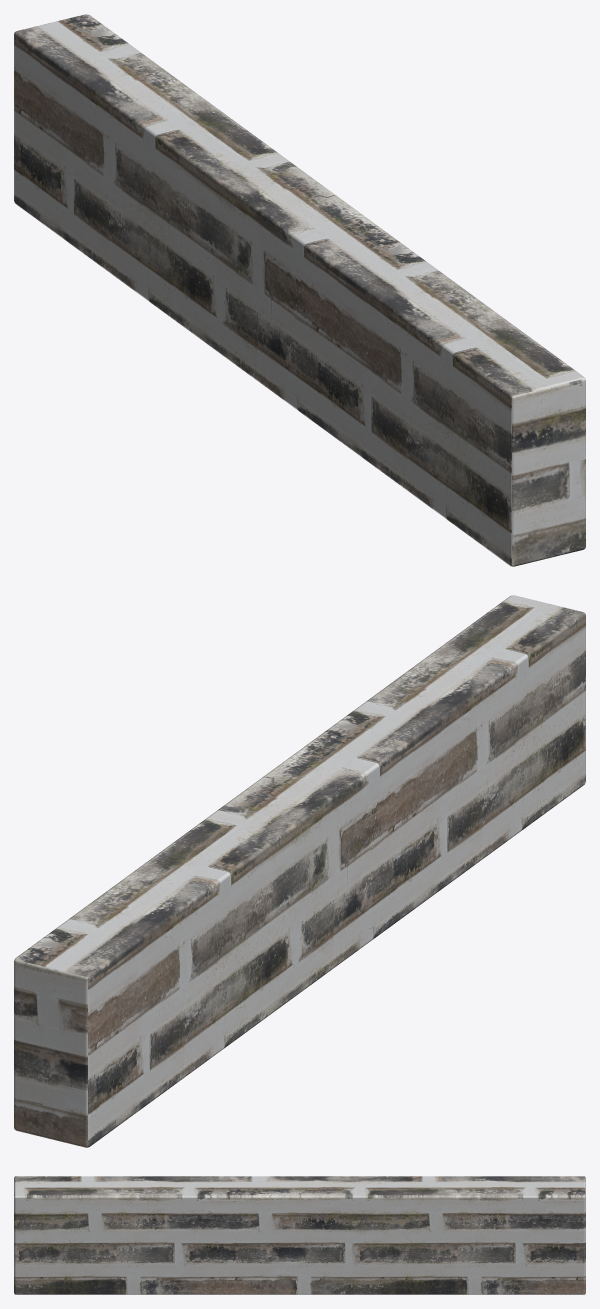
The model's file is SM_Gidan00E.fbx.
3 renders of one model, top to bottom at view 1: azimuth 30°, elevation 25°; view 2: azimuth 150°, elevation 25°; view 3: azimuth 270°, elevation 25°, orthographic. The views are drawn at different scales.
Parts seen in each view (by area): view 1: SM_Gidan00E; view 2: SM_Gidan00E; view 3: SM_Gidan00E.
Boxes of the visible parts, left/top/right/bottom form: SM_Gidan00E: left=14, top=14, right=585, bottom=566; SM_Gidan00E: left=14, top=595, right=585, bottom=1147; SM_Gidan00E: left=14, top=1176, right=585, bottom=1294.
Bounding box in the file's own units: 20.05 × 229 × 43.68.
